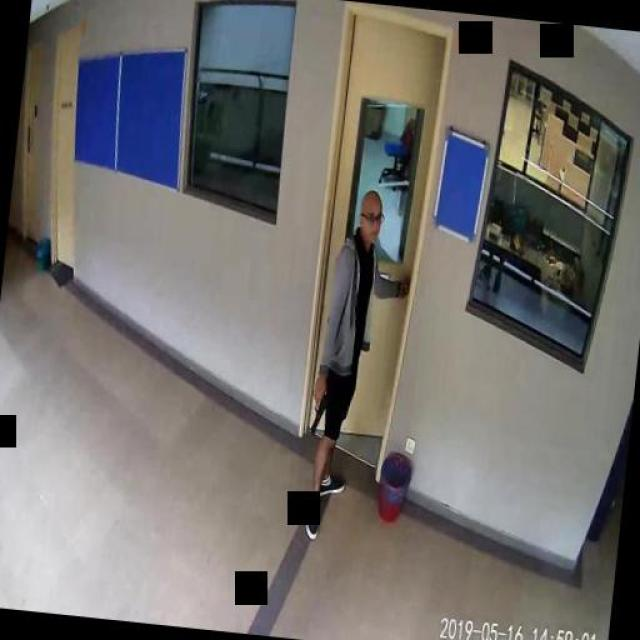gun: (308, 386, 328, 434)
